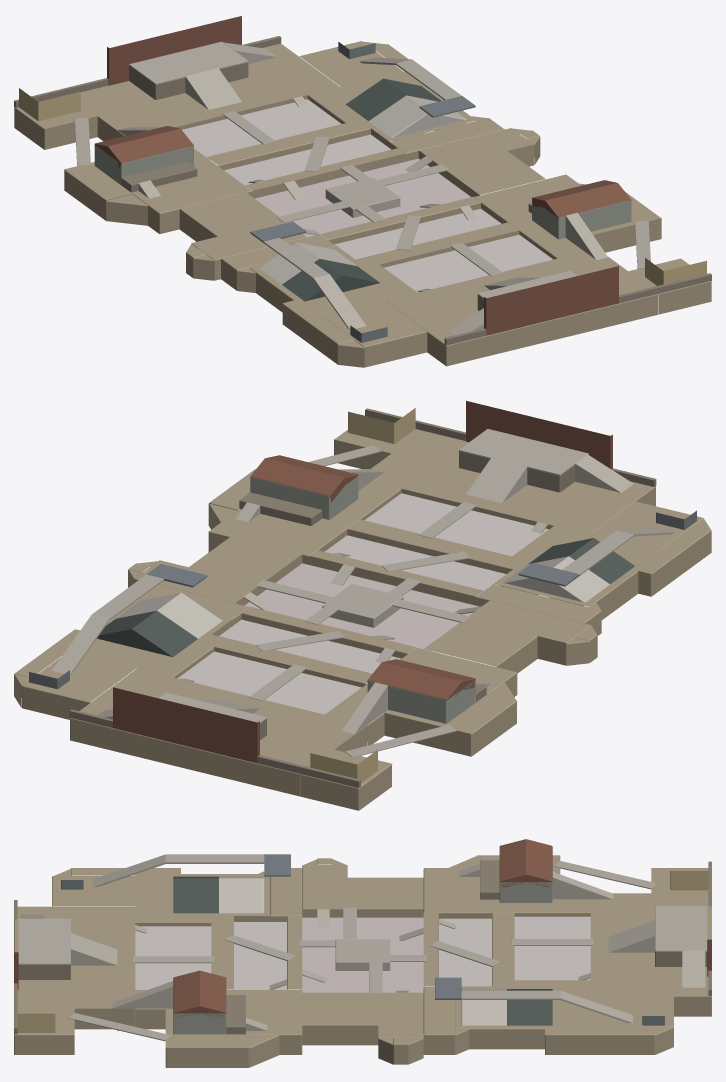
The model's file is saltpan_turf_level.glb.
The picture shows the model from 3 angles, top to bottom: view 1: azimuth 30°, elevation 25°; view 2: azimuth 150°, elevation 25°; view 3: azimuth 270°, elevation 25°; orthographic projection. The views are drawn at different scales.
Parts seen in each view (by area): view 1: PaintableStage; view 2: PaintableStage; view 3: PaintableStage.
Boxes of the visible parts, x1,y1,x2,y2 form: PaintableStage: (14,16,711,367); PaintableStage: (14,401,711,810); PaintableStage: (14,839,711,1067).
Bounding box in the file's own units: 60 × 8.71 × 92.
